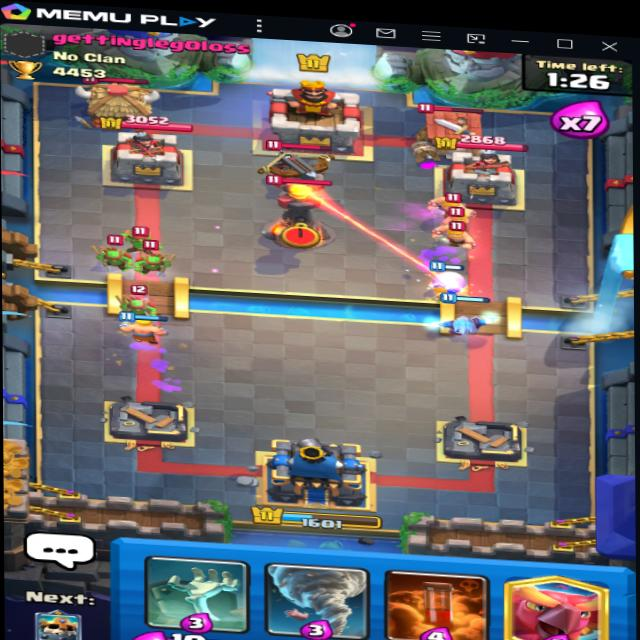barbarian: (430, 222, 483, 251), (430, 208, 488, 231), (424, 187, 471, 214)
barbarian-hut: (414, 100, 492, 160)
goblin-hut: (76, 70, 155, 127)
inferno-tower: (266, 172, 338, 247)
spear-goblin: (119, 220, 160, 251), (123, 286, 154, 318), (139, 245, 171, 276), (100, 242, 134, 268)
x-bow: (245, 131, 341, 198)
